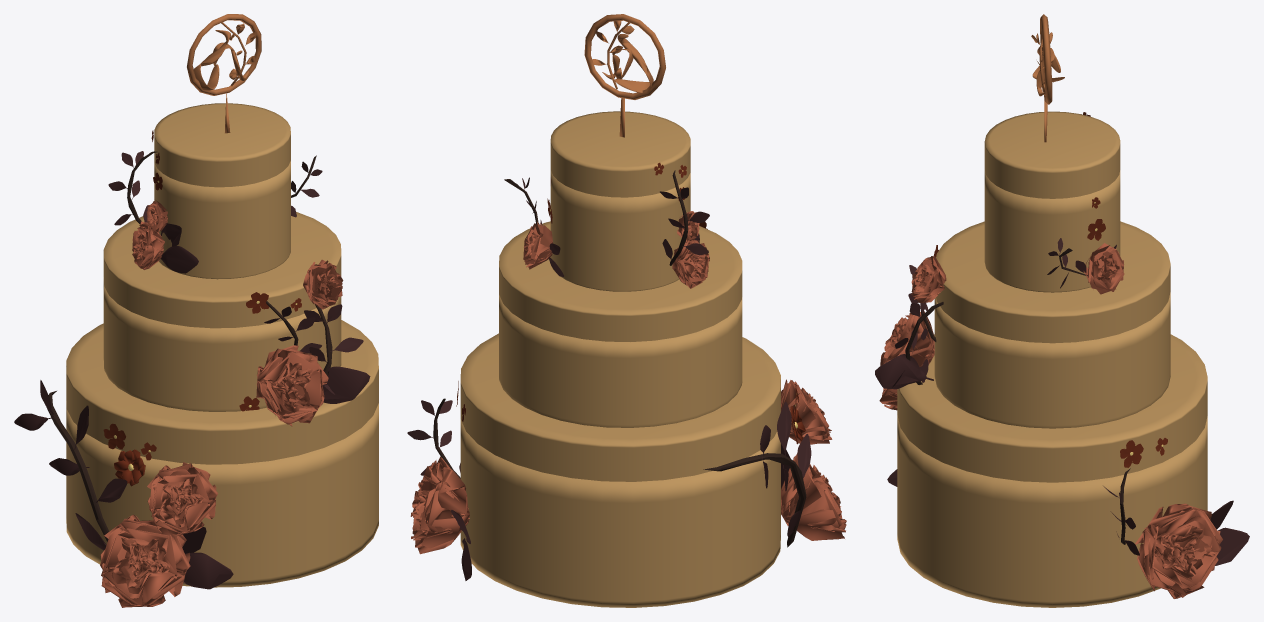
File: 3-tier-caramel-roses-ring.glb
The picture shows the model from 3 angles, left to right: view 1: azimuth 30°, elevation 25°; view 2: azimuth 150°, elevation 25°; view 3: azimuth 270°, elevation 25°; orthographic projection. The views are drawn at different scales.
Parts seen in each view (by area): view 1: Cylinder.022, Cylinder.014, Cylinder.021, grid.042, grid.044, grid.040, Plane.093, Cylinder.020, grid.043, Plane.087, Plane.091, Plane.095 (+6 smaller); view 2: Cylinder.022, Cylinder.014, Cylinder.021, grid.029, Cylinder.020, grid.042, Plane.093, grid.040, grid.045, Plane.092, grid.047, Plane.084; view 3: Cylinder.022, Cylinder.014, Cylinder.021, grid.029, grid.044, Cylinder.020, grid.047, Plane.087, grid.043, Plane.095, Plane.082, Plane.084.
Part boxes in pixels (left/top/right/bottom): Cylinder.022: left=66, top=320, right=378, bottom=587; Cylinder.014: left=103, top=212, right=341, bottom=411; Cylinder.021: left=154, top=103, right=290, bottom=279; grid.042: left=100, top=514, right=190, bottom=607; grid.044: left=256, top=345, right=328, bottom=426; grid.040: left=147, top=462, right=217, bottom=537; Plane.093: left=14, top=380, right=127, bottom=550; Cylinder.020: left=187, top=14, right=261, bottom=133; grid.043: left=303, top=259, right=343, bottom=309; Plane.087: left=322, top=366, right=370, bottom=403; Plane.091: left=183, top=552, right=233, bottom=589; Plane.095: left=304, top=304, right=363, bottom=394; Cylinder.022: left=460, top=333, right=780, bottom=607; Cylinder.014: left=499, top=221, right=742, bottom=427; Cylinder.021: left=550, top=111, right=690, bottom=291; grid.029: left=410, top=456, right=469, bottom=554; Cylinder.020: left=584, top=14, right=665, bottom=137; grid.042: left=781, top=453, right=846, bottom=540; Plane.093: left=703, top=402, right=811, bottom=547; grid.040: left=781, top=379, right=832, bottom=444; grid.045: left=672, top=240, right=709, bottom=288; Plane.092: left=660, top=170, right=709, bottom=265; grid.047: left=523, top=222, right=552, bottom=269; Plane.084: left=407, top=398, right=460, bottom=478; Cylinder.022: left=897, top=334, right=1207, bottom=607; Cylinder.014: left=934, top=221, right=1170, bottom=428; Cylinder.021: left=984, top=111, right=1120, bottom=292; grid.029: left=1135, top=503, right=1222, bottom=598; grid.044: left=880, top=311, right=934, bottom=366; Cylinder.020: left=1031, top=14, right=1064, bottom=142; grid.047: left=1083, top=243, right=1124, bottom=294; Plane.087: left=875, top=354, right=933, bottom=389; grid.043: left=911, top=256, right=946, bottom=303; Plane.095: left=892, top=302, right=943, bottom=387; Plane.082: left=1215, top=527, right=1249, bottom=565; Plane.084: left=1103, top=468, right=1139, bottom=555.
Bounding box in the file's own units: 5.28 × 7.56 × 4.9.
